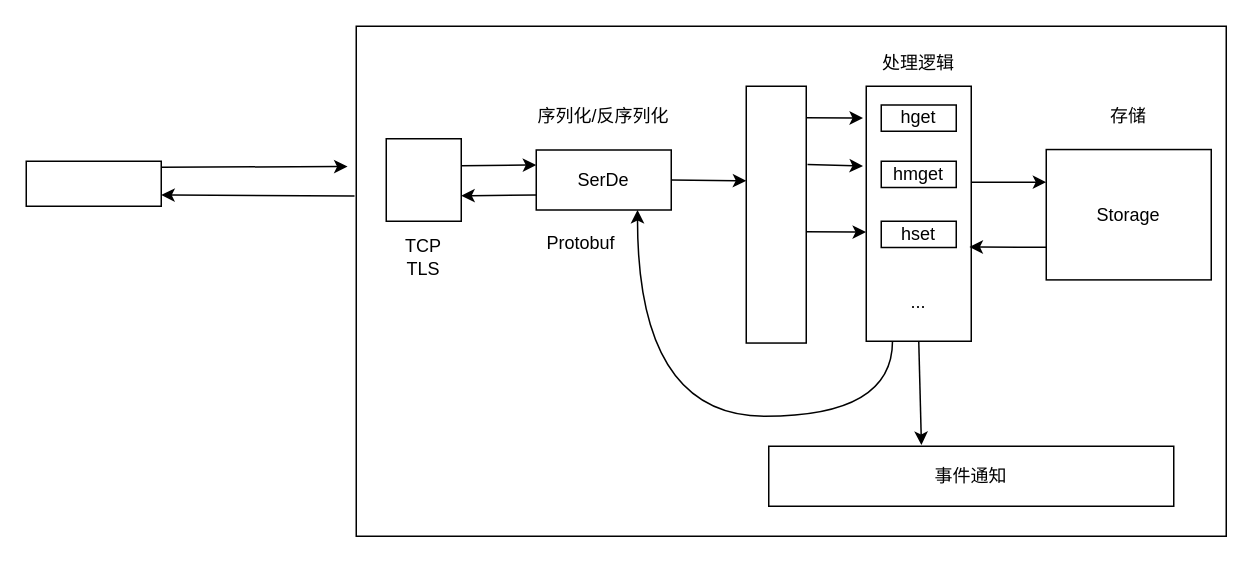
Image size: 1253x563. Some labels were removed from this diagram. The shapes that lost their labels are listed below. From the top down, each one's box as (x1, y1, x2, y2) in pixels, then its label:
(25, 160, 161, 206): Client
(385, 137, 461, 221): IO
(745, 85, 806, 343): 调 度 器
